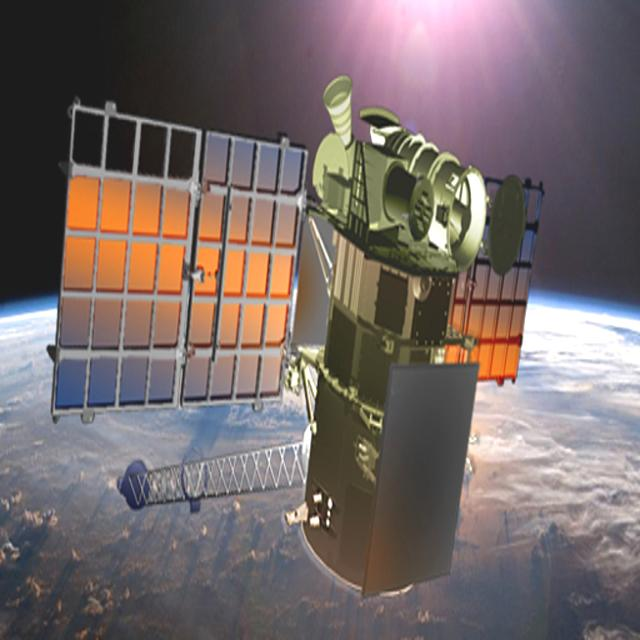medium_debris: (44, 85, 568, 609)
